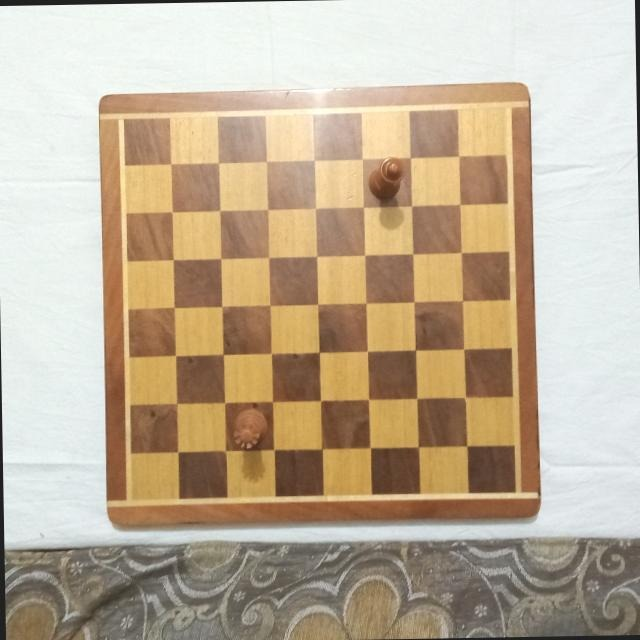white-king: (368, 155, 404, 200)
white-queen: (229, 405, 269, 451)
